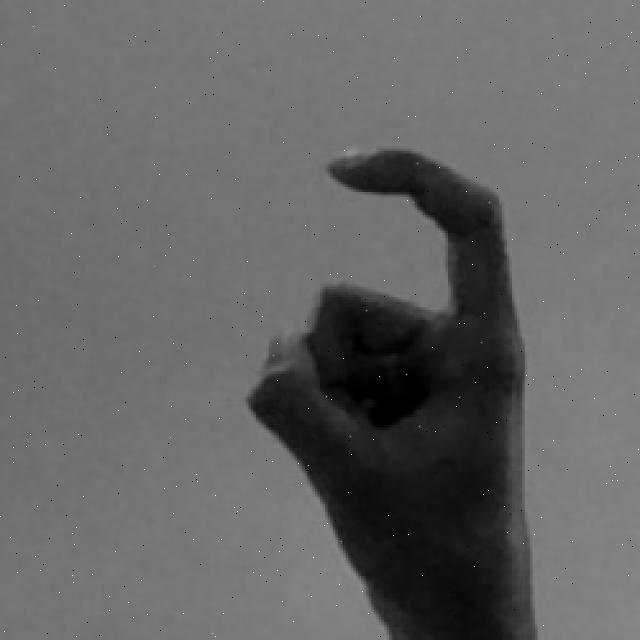X: (242, 135, 546, 640)
